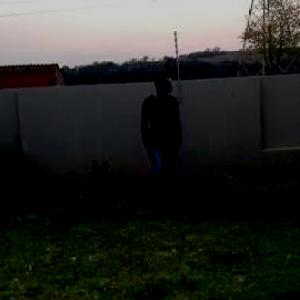follow: (139, 61, 191, 242)
